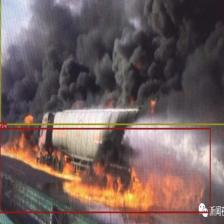fire: (0, 127, 210, 212)
smoke: (0, 0, 224, 125)
